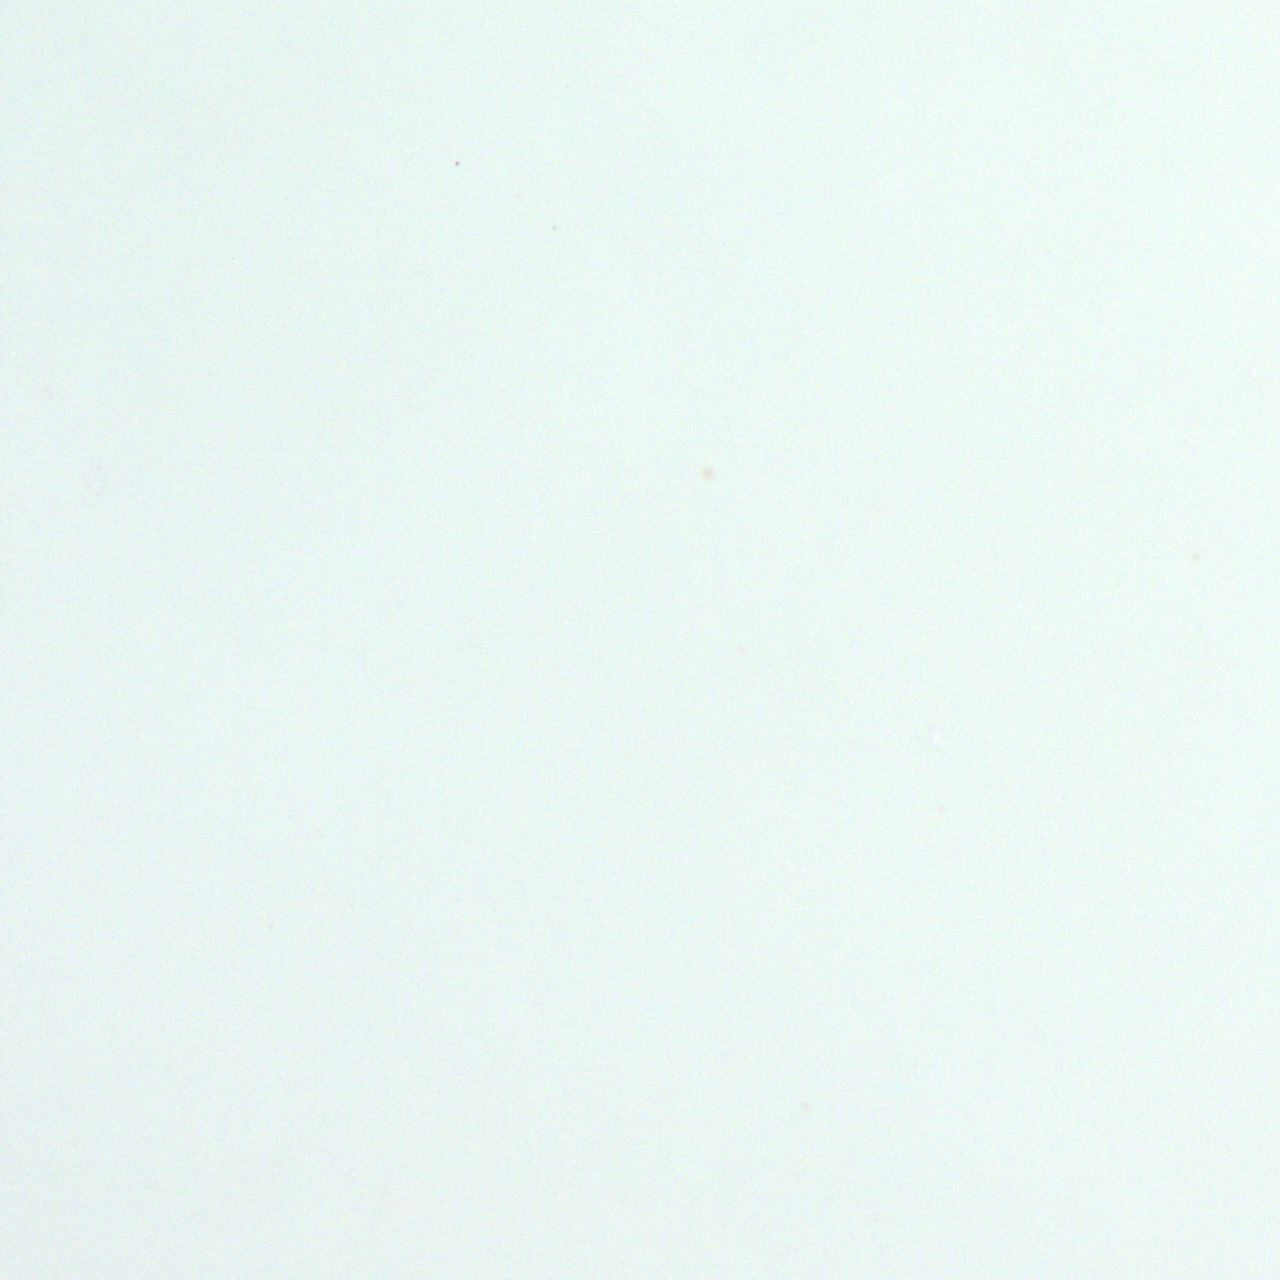dust: (551, 223, 556, 232), (454, 159, 459, 166)
